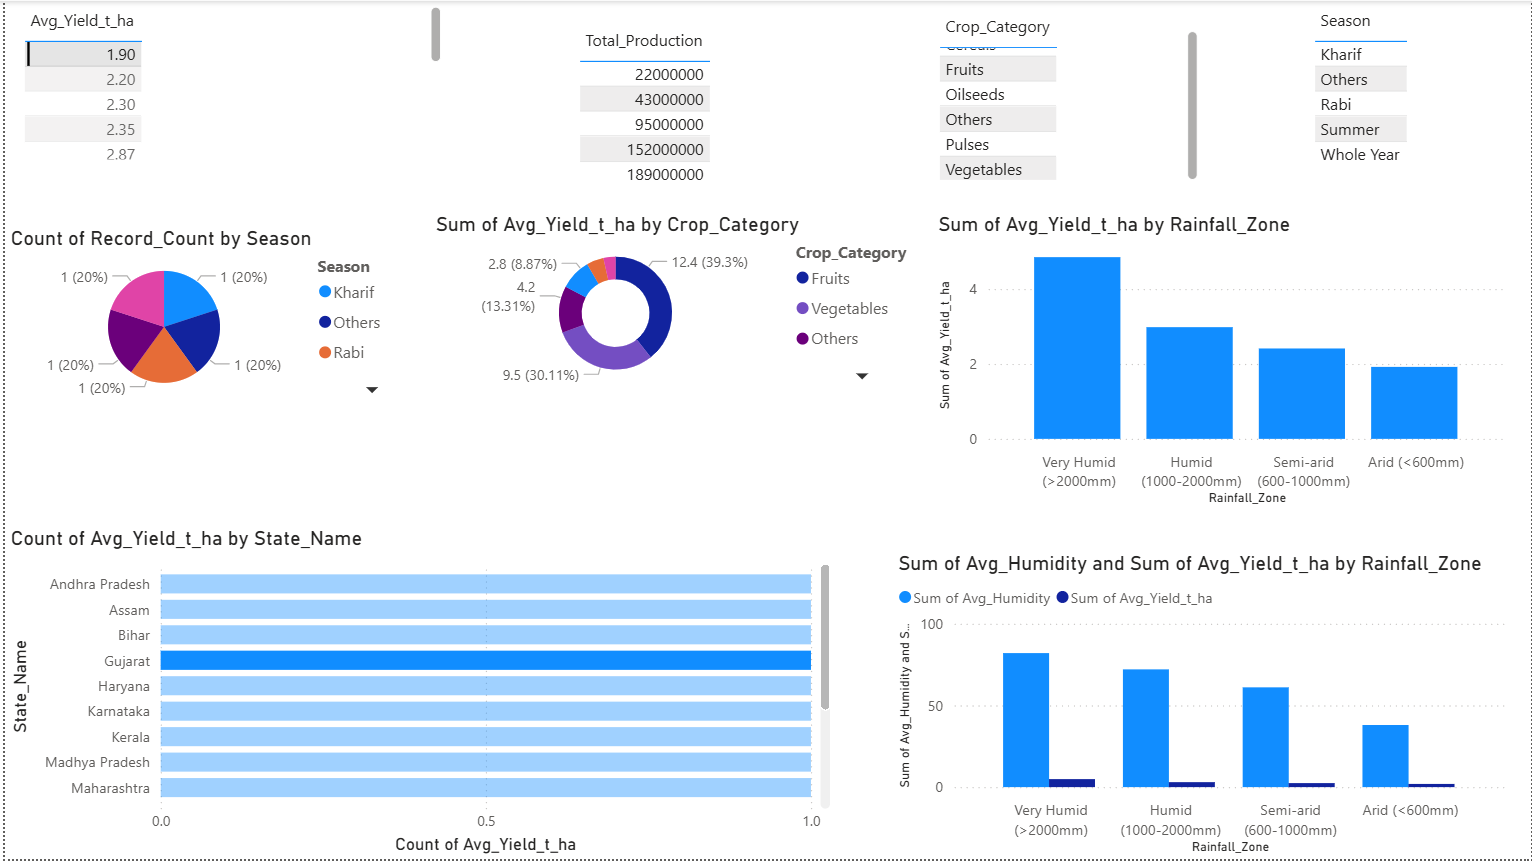

The page's visual inventory and layout, read from the dashboard file:
{"tool":"powerbi","page":{"name":"Page 2","canvas":[1280,720],"ordinal":1},"visuals":[{"type":"tableEx","fields":{"Values":["StateSummary.Avg_Yield_t_ha"]},"box":[10,0,360,137.8],"z":0},{"type":"tableEx","fields":{"Values":["SeasonSummary.Total_Production"]},"box":[475.6,16.7,227.8,161.1],"z":1000},{"type":"pieChart","fields":{"Category":["SeasonSummary.Season"],"Y":["CountNonNull(SeasonSummary.Record_Count)"]},"box":[0,188.8,356.2,150.4],"z":4000},{"type":"donutChart","fields":{"Category":["CategorySummary.Crop_Category"],"Y":["Sum(CategorySummary.Avg_Yield_t_ha)"]},"box":[356.2,177.5,421.7,150.4],"z":5000},{"type":"clusteredBarChart","fields":{"Category":["StateSummary.State_Name"],"Y":["CountNonNull(StateSummary.Avg_Yield_t_ha)"]},"box":[0,440,697.1,280],"z":6000},{"type":"clusteredColumnChart","fields":{"Category":["RainfallZone.Rainfall_Zone"],"Y":["Sum(RainfallZone.Avg_Yield_t_ha)"]},"box":[777.9,177.5,486.2,251],"z":7000},{"type":"tableEx","fields":{"Values":["SeasonSummary.Season"]},"box":[1092.2,0,144.4,150],"z":9001},{"type":"tableEx","fields":{"Values":["CategorySummary.Crop_Category"]},"box":[777.8,5.6,227.8,150],"z":9002},{"type":"clusteredColumnChart","fields":{"Y":["Sum(RainfallZone.Avg_Humidity)","Sum(RainfallZone.Avg_Yield_t_ha)"],"Category":["RainfallZone.Rainfall_Zone"]},"box":[744,461,520,259],"z":9003}]}

Visuals, with their boxes in screenshot pixels (x1, y1, x2, y2), scaled from the page's 1280x720 canvas onto the 1532x861 screenshot:
tableEx - StateSummary.Avg_Yield_t_ha: detection(12, 0, 443, 165)
tableEx - SeasonSummary.Total_Production: detection(569, 20, 842, 213)
pieChart - SeasonSummary.Season x CountNonNull(SeasonSummary.Record_Count): detection(0, 226, 426, 406)
donutChart - CategorySummary.Crop_Category x Sum(CategorySummary.Avg_Yield_t_ha): detection(426, 212, 931, 392)
clusteredBarChart - StateSummary.State_Name x CountNonNull(StateSummary.Avg_Yield_t_ha): detection(0, 526, 834, 860)
clusteredColumnChart - RainfallZone.Rainfall_Zone x Sum(RainfallZone.Avg_Yield_t_ha): detection(931, 212, 1513, 512)
tableEx - SeasonSummary.Season: detection(1307, 0, 1480, 179)
tableEx - CategorySummary.Crop_Category: detection(931, 7, 1204, 186)
clusteredColumnChart - Sum(RainfallZone.Avg_Humidity) x Sum(RainfallZone.Avg_Yield_t_ha): detection(890, 551, 1513, 860)
